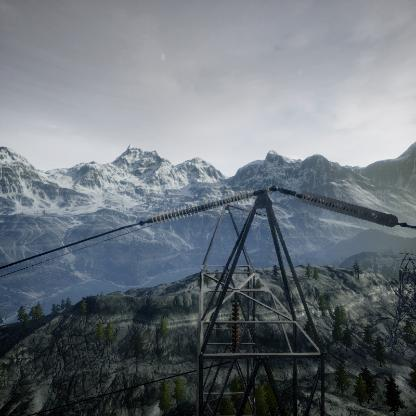insulator: (142, 191, 257, 226), (292, 190, 400, 227), (229, 300, 241, 357)
